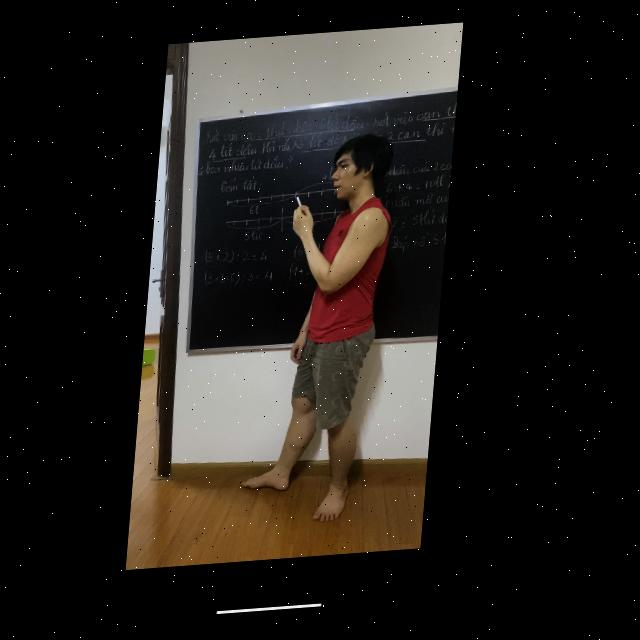cigarette: (299, 201, 306, 212)
